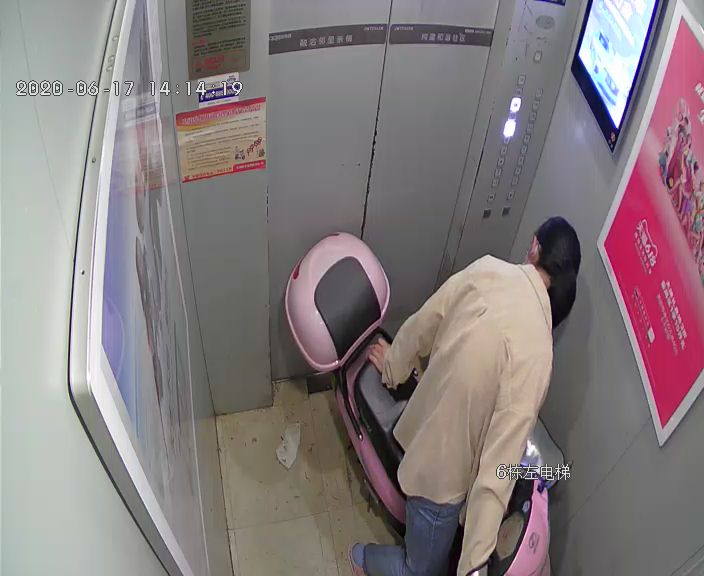Electric-bicycle: (285, 229, 569, 575)
